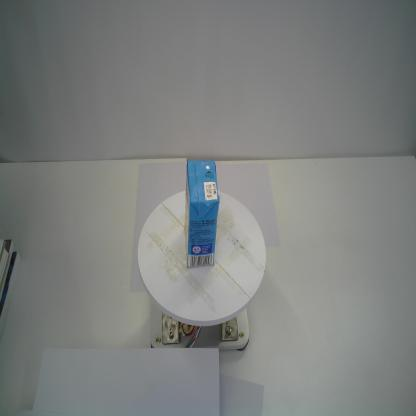Milk: (184, 160, 219, 268)
